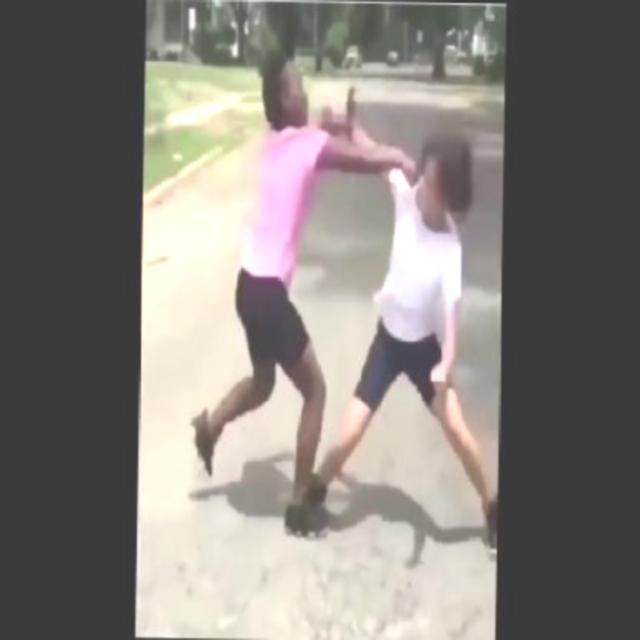fight: (232, 46, 503, 552)
